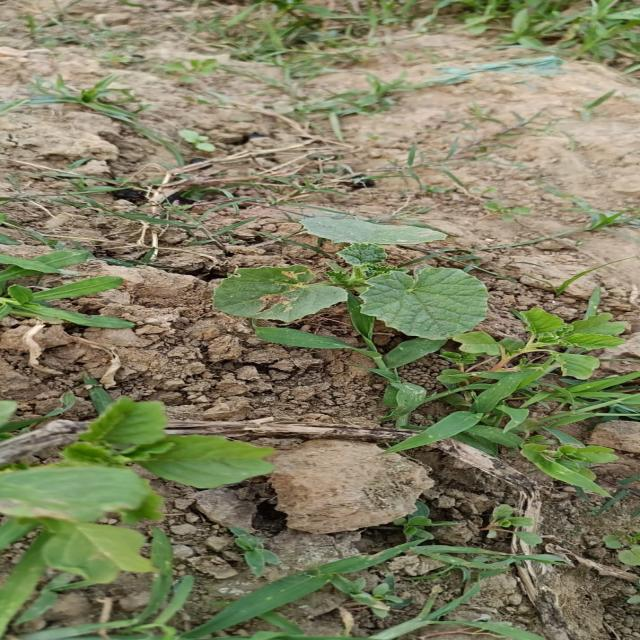plant: (212, 216, 487, 384)
